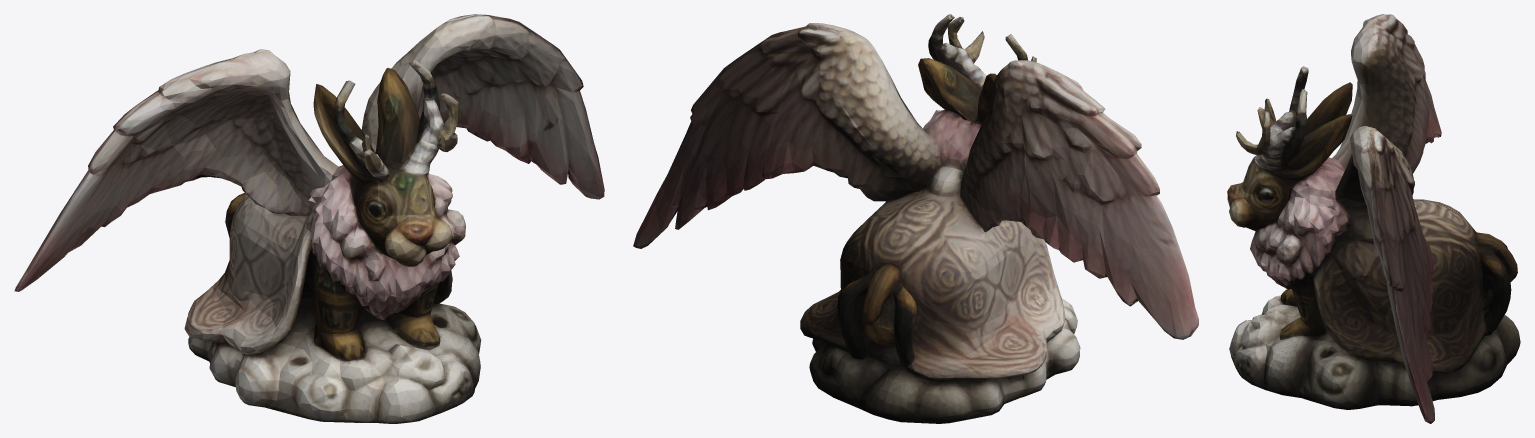
Rendered from zephyrra__cloudMother.glb.
3 views of the same model, side by side, from view 1: azimuth 30°, elevation 25°; view 2: azimuth 150°, elevation 25°; view 3: azimuth 270°, elevation 25° (orthographic). The views are drawn at different scales.
Parts seen in each view (by area): view 1: world; view 2: world; view 3: world.
Boxes of the visible parts, x1,y1,x2,y2 form: world: [14, 14, 604, 423]; world: [633, 14, 1198, 423]; world: [1227, 14, 1520, 423].
Size of the model in its own units: 0.9988 by 0.54 by 0.4895.
Materials: 1 (1 with a texture image).
